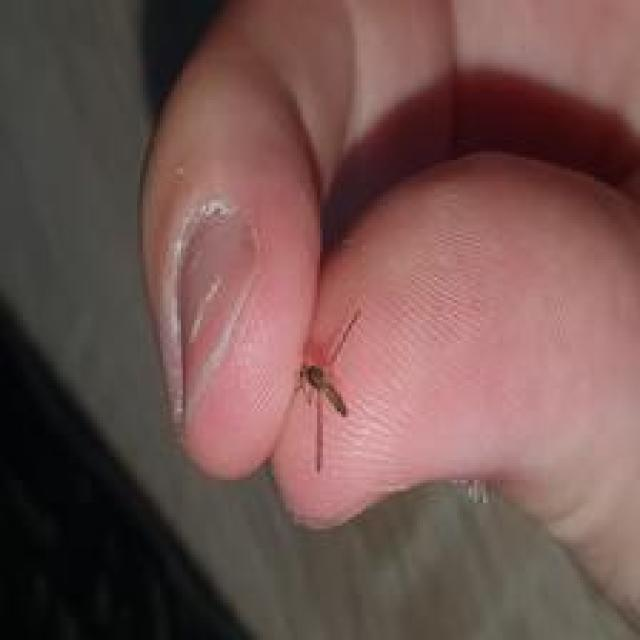Culex: (293, 307, 361, 473)
